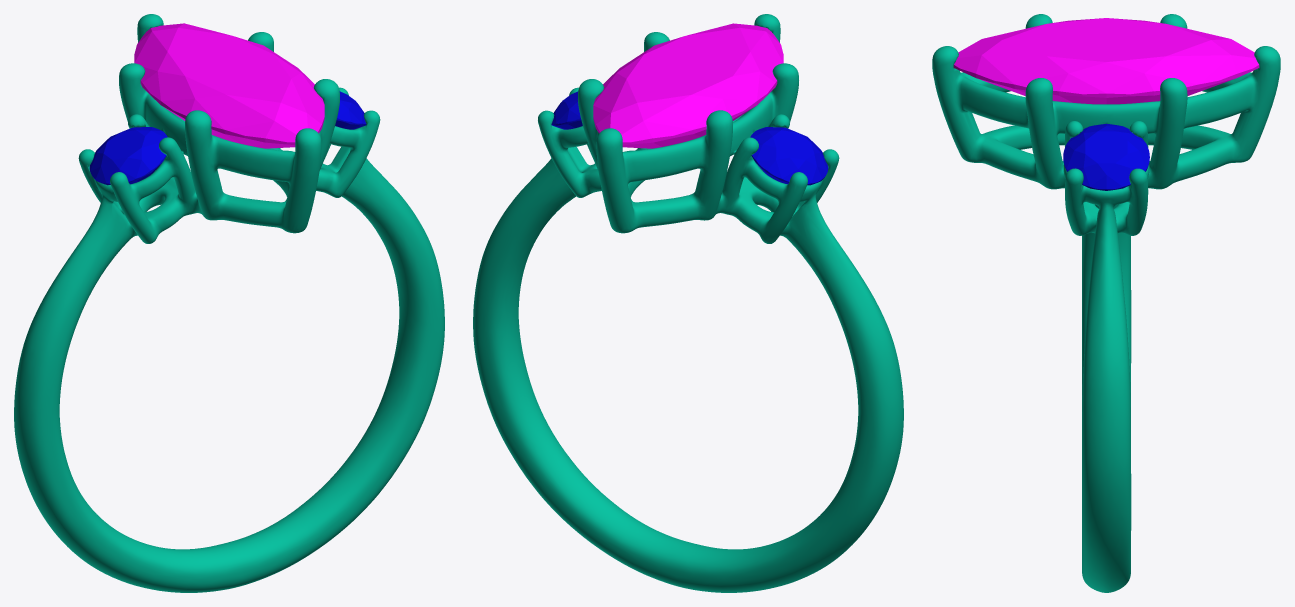
File: BE1D352_MQ_200ct_RENDER.glb
3 renders of one model, left to right at view 1: azimuth 30°, elevation 25°; view 2: azimuth 150°, elevation 25°; view 3: azimuth 270°, elevation 25°, orthographic.
Parts seen in each view (by area): view 1: Metal 01, CS_Diamond_Marquise, Diamond_Round_side.001, Diamond_Round_side; view 2: Metal 01, CS_Diamond_Marquise, Diamond_Round_side.001, Diamond_Round_side; view 3: Metal 01, CS_Diamond_Marquise, Diamond_Round_side.
Boxes of the visible parts, x1=… form: Metal 01: x1=14, y1=14, x2=444, y2=592; CS_Diamond_Marquise: x1=134, y1=23, x2=324, y2=148; Diamond_Round_side.001: x1=89, y1=127, x2=167, y2=185; Diamond_Round_side: x1=335, y1=91, x2=366, y2=129; Metal 01: x1=473, y1=14, x2=903, y2=592; CS_Diamond_Marquise: x1=593, y1=23, x2=783, y2=148; Diamond_Round_side.001: x1=750, y1=127, x2=828, y2=185; Diamond_Round_side: x1=551, y1=91, x2=582, y2=129; Metal 01: x1=932, y1=14, x2=1280, y2=592; CS_Diamond_Marquise: x1=953, y1=18, x2=1259, y2=104; Diamond_Round_side: x1=1063, y1=123, x2=1149, y2=190.
Size of the model in its own units: 20.1 by 23.63 by 14.09.
